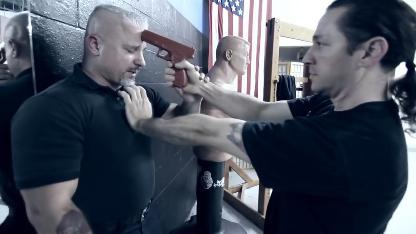pistol: (140, 29, 196, 88)
